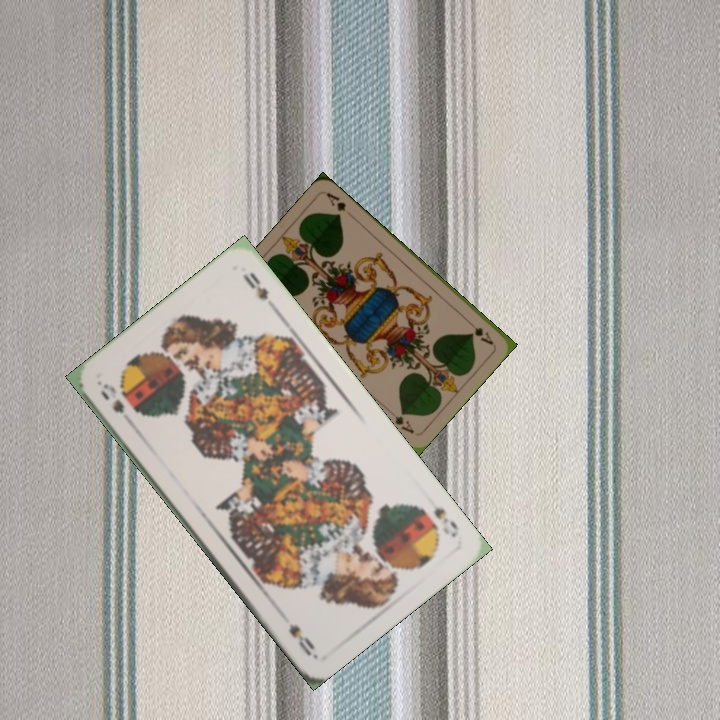GA: (463, 316, 496, 347)
SO: (429, 503, 462, 540), (96, 379, 127, 417)
